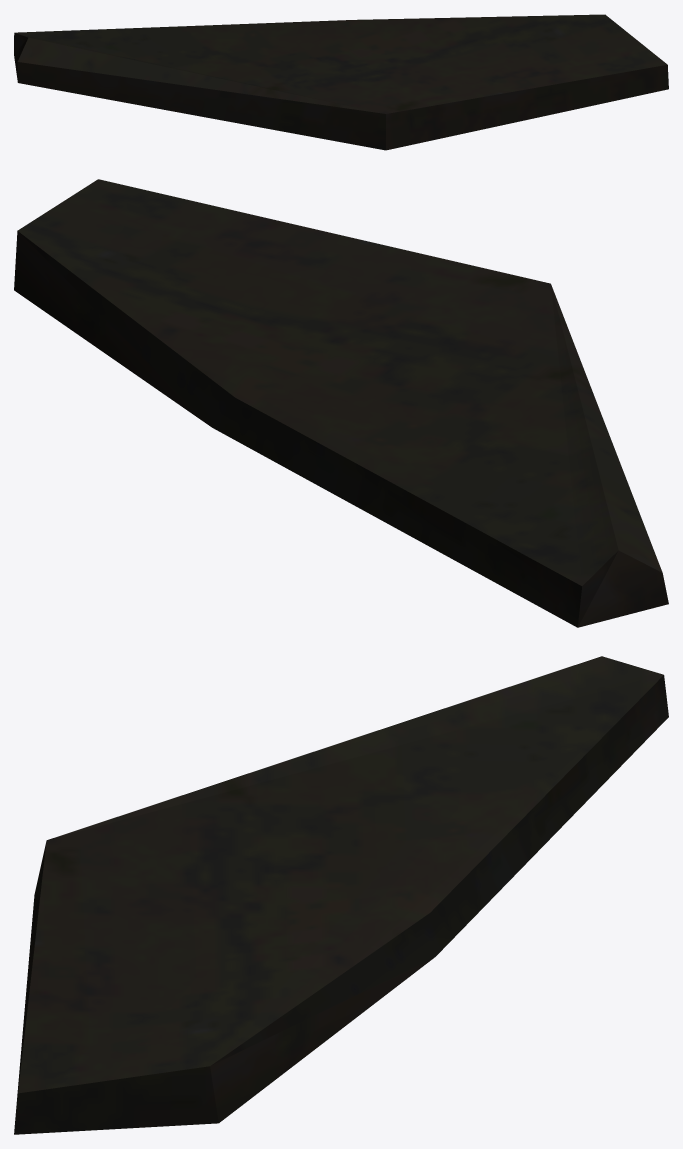
File: shards_glass_single_03.dae
The picture shows the model from 3 angles, top to bottom: view 1: azimuth 30°, elevation 25°; view 2: azimuth 150°, elevation 25°; view 3: azimuth 270°, elevation 25°; orthographic projection. The views are drawn at different scales.
Visible parts, largest first — view 1: 03; view 2: 03; view 3: 03.
Part boxes in pixels (box(x1,y1,x2,y2)): 03: box(14, 14, 668, 150); 03: box(14, 179, 668, 627); 03: box(14, 656, 668, 1134).
Bounding box in the file's own units: 0.1495 × 0.0127 × 0.0987.
